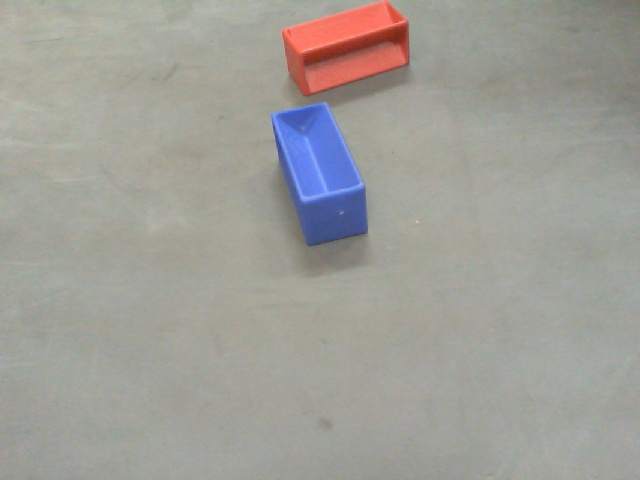BlueSample: (260, 101, 370, 249)
RedSample: (278, 1, 410, 97)
